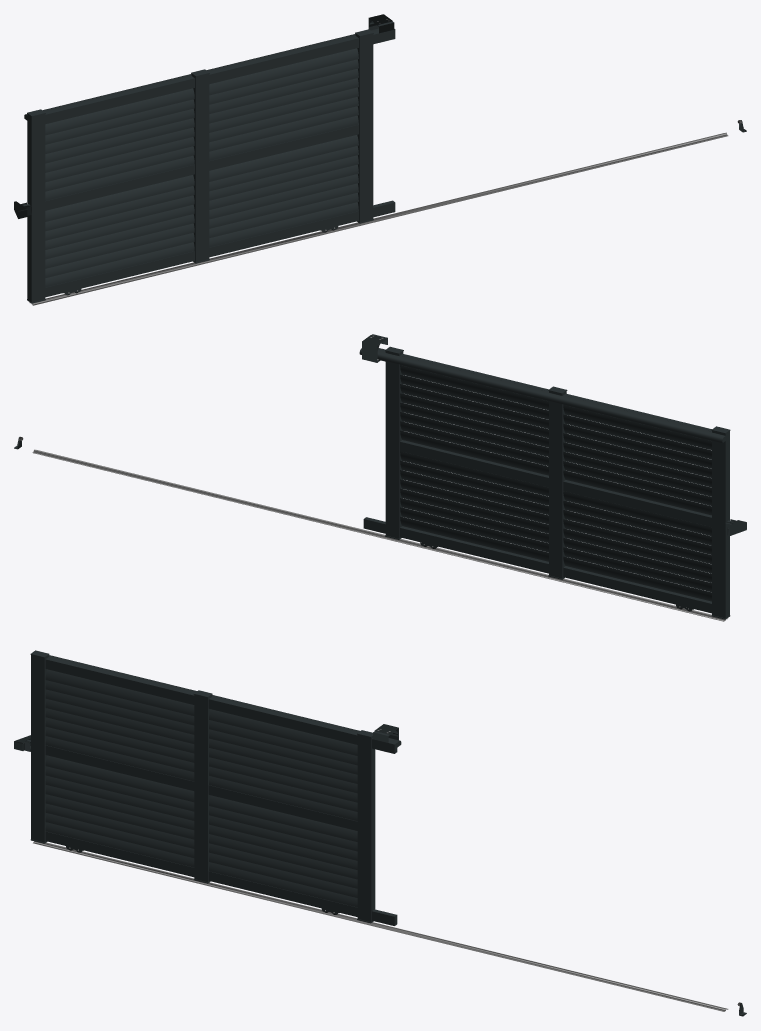
The picture shows the model from 3 angles, top to bottom: view 1: azimuth 30°, elevation 25°; view 2: azimuth 150°, elevation 25°; view 3: azimuth 330°, elevation 25°; orthographic projection.
Parts seen in each view (by area): view 1: Folha_1, phoenix; view 2: Folha_1, phoenix; view 3: Folha_1, phoenix.
Boxes of the visible parts, x1,y1,x2,y2 form: Folha_1: [24, 28, 395, 303]; phoenix: [14, 14, 746, 305]; Folha_1: [359, 346, 733, 619]; phoenix: [14, 334, 746, 621]; Folha_1: [27, 650, 401, 925]; phoenix: [14, 724, 746, 1016].
Bounding box in the file's own units: 641 × 166 × 16.91.
Materials: 1 (1 with a texture image).
